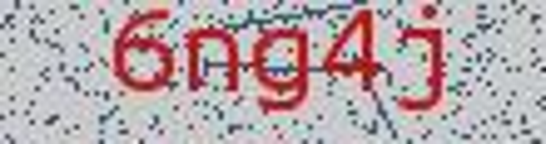4: (319, 2, 390, 95)
6: (105, 1, 179, 111)
g: (249, 20, 316, 126)
j: (396, 3, 460, 124)
n: (179, 14, 246, 109)
